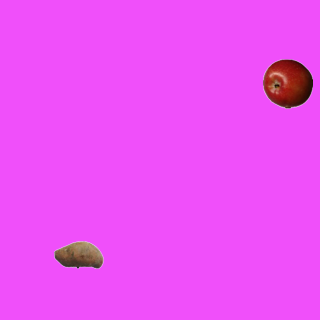Apple Braeburn: (262, 58, 312, 108)
Potato Sweet: (53, 229, 103, 279)
